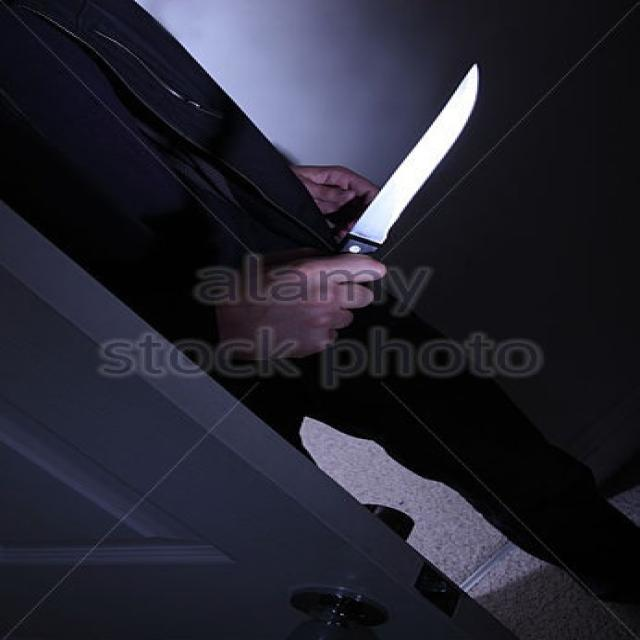knife: (327, 60, 495, 272)
